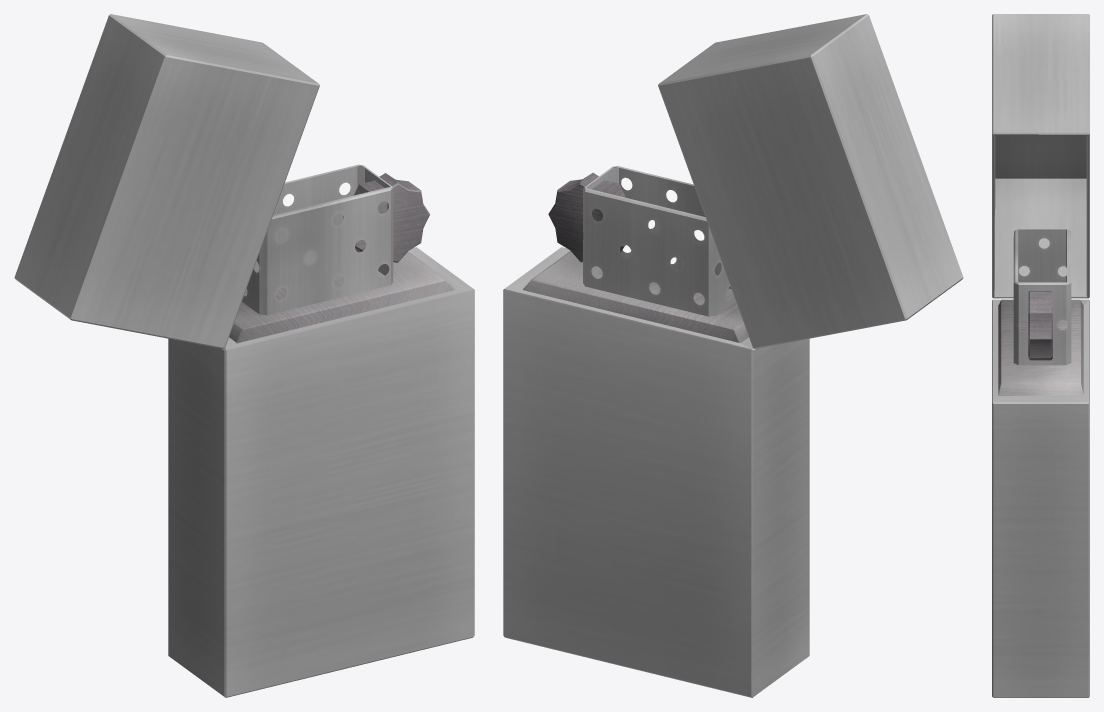
Rendered from Lighter.fbx.
3 views of the same model, side by side, from view 1: azimuth 30°, elevation 25°; view 2: azimuth 150°, elevation 25°; view 3: azimuth 270°, elevation 25° (orthographic). The views are drawn at different scales.
Parts seen in each view (by area): view 1: Lighter, Lighter2; view 2: Lighter, Lighter2; view 3: Lighter, Lighter2.
Boxes of the visible parts, x1,y1,x2,y2 form: Lighter: [168, 164, 474, 697]; Lighter2: [14, 14, 319, 348]; Lighter: [503, 166, 809, 697]; Lighter2: [658, 14, 963, 348]; Lighter: [992, 229, 1089, 697]; Lighter2: [992, 14, 1089, 298].
Bounding box in the file's own units: 0.8072 × 1.26 × 0.2.
Materials: 2 (2 with a texture image).
